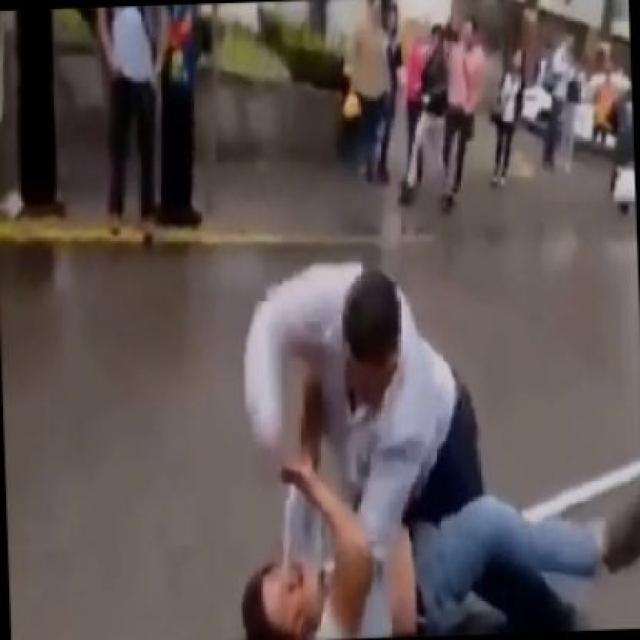fight: (198, 222, 638, 638)
non-fight: (80, 3, 175, 235), (430, 18, 485, 214)
